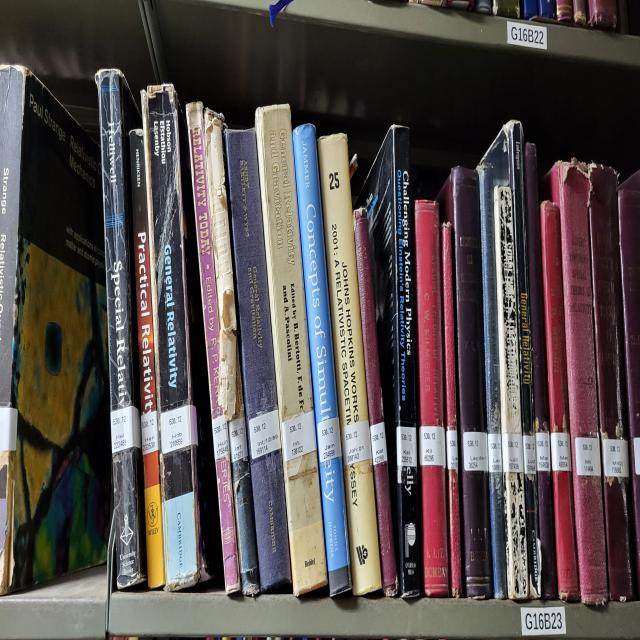Book: (255, 106, 328, 595), (225, 130, 291, 593), (142, 84, 202, 590), (318, 133, 381, 595), (360, 124, 420, 598), (546, 160, 609, 603), (292, 124, 351, 595), (186, 103, 240, 593), (95, 70, 146, 587), (439, 168, 491, 598), (589, 165, 635, 601), (540, 200, 580, 601), (130, 130, 165, 587), (494, 187, 529, 598), (415, 200, 449, 595), (478, 157, 508, 598), (504, 119, 535, 436), (441, 222, 462, 598), (229, 341, 260, 595), (524, 143, 550, 430), (354, 208, 384, 425), (210, 157, 220, 249), (528, 525, 539, 584)
Label: (161, 403, 198, 455), (282, 411, 316, 460), (249, 409, 281, 460), (110, 406, 141, 455), (342, 419, 371, 465), (420, 425, 446, 468), (462, 430, 489, 471), (602, 438, 629, 479), (318, 417, 341, 463), (575, 438, 601, 476), (396, 425, 418, 468), (501, 433, 524, 473), (229, 417, 248, 463), (212, 414, 230, 460), (550, 433, 571, 471), (141, 411, 159, 455), (370, 422, 388, 465), (535, 430, 551, 473), (488, 433, 502, 473), (522, 433, 536, 473), (446, 430, 458, 471)
